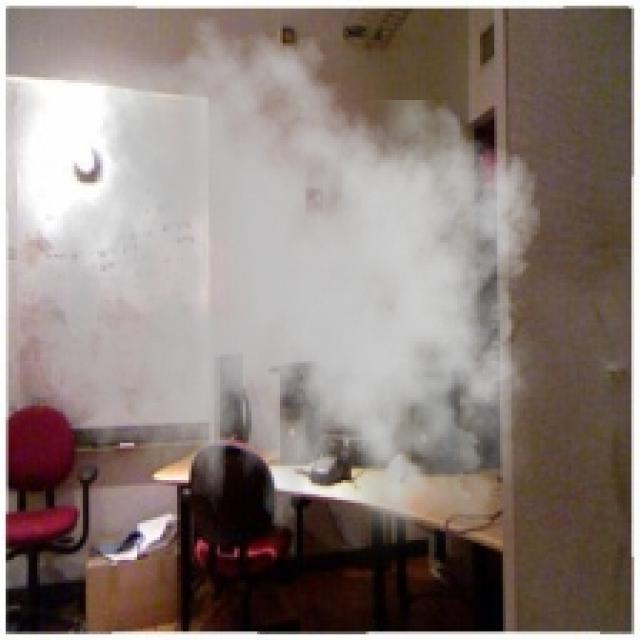smoke: (32, 14, 557, 569)
